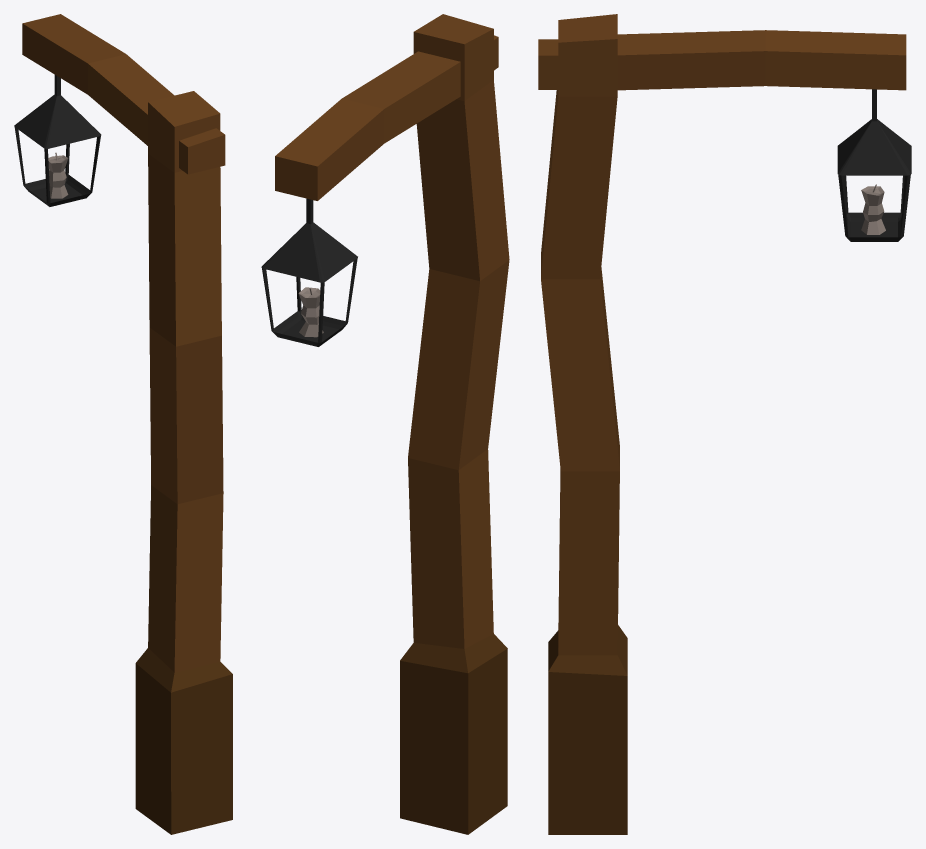
Rendered from LanternPole3.fbx.
The picture shows the model from 3 angles, left to right: view 1: azimuth 30°, elevation 25°; view 2: azimuth 150°, elevation 25°; view 3: azimuth 270°, elevation 25°; orthographic projection. The views are drawn at different scales.
Parts seen in each view (by area): view 1: Cube.033, Cube.034, Cylinder.013; view 2: Cube.033, Cube.034, Cylinder.013; view 3: Cube.033, Cube.034, Cylinder.013.
Boxes of the visible parts, bbox=[...] form: Cube.033: bbox=[22, 14, 232, 834]; Cube.034: bbox=[14, 75, 101, 206]; Cylinder.013: bbox=[46, 152, 68, 198]; Cube.033: bbox=[275, 14, 509, 834]; Cube.034: bbox=[261, 198, 357, 346]; Cylinder.013: bbox=[298, 287, 323, 337]; Cube.033: bbox=[538, 14, 906, 834]; Cube.034: bbox=[837, 89, 911, 241]; Cylinder.013: bbox=[861, 184, 885, 234].
Size of the model in its own units: 33.17 by 363 by 155.
